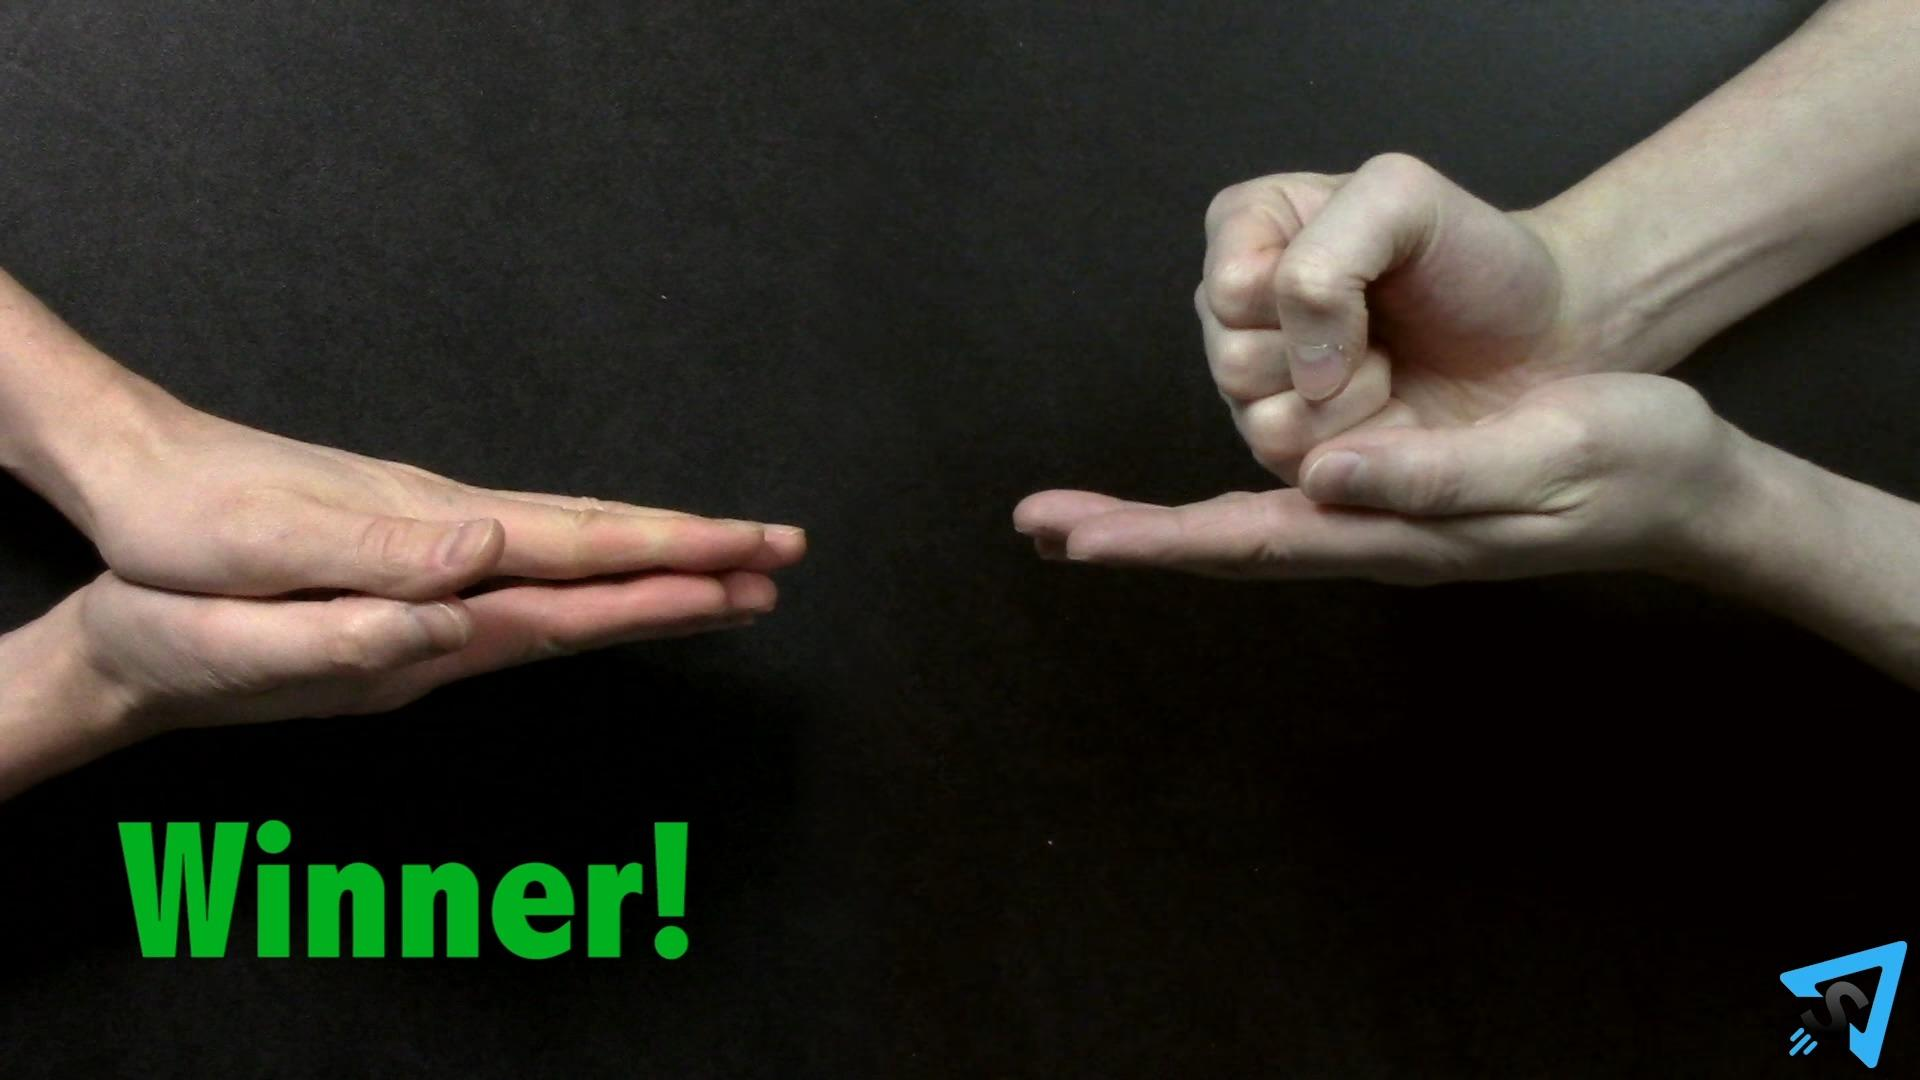Paper: (108, 425, 810, 606)
Rock: (1198, 150, 1649, 478)
